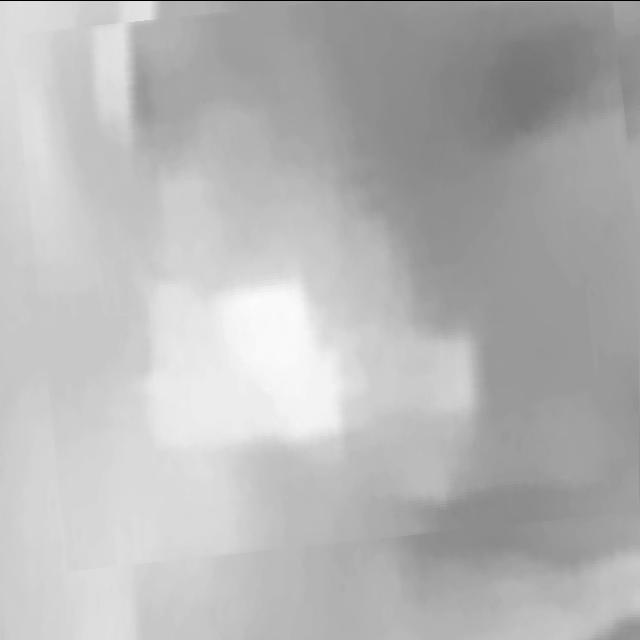Weapon: (24, 0, 640, 555)
